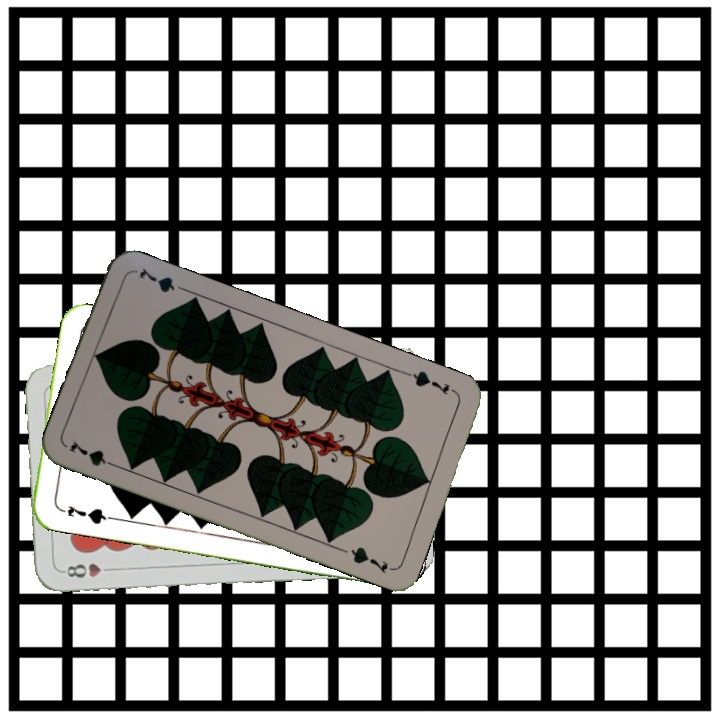G7: (65, 436, 122, 471), (403, 366, 459, 398), (54, 501, 113, 527)
H8: (58, 559, 117, 580)
